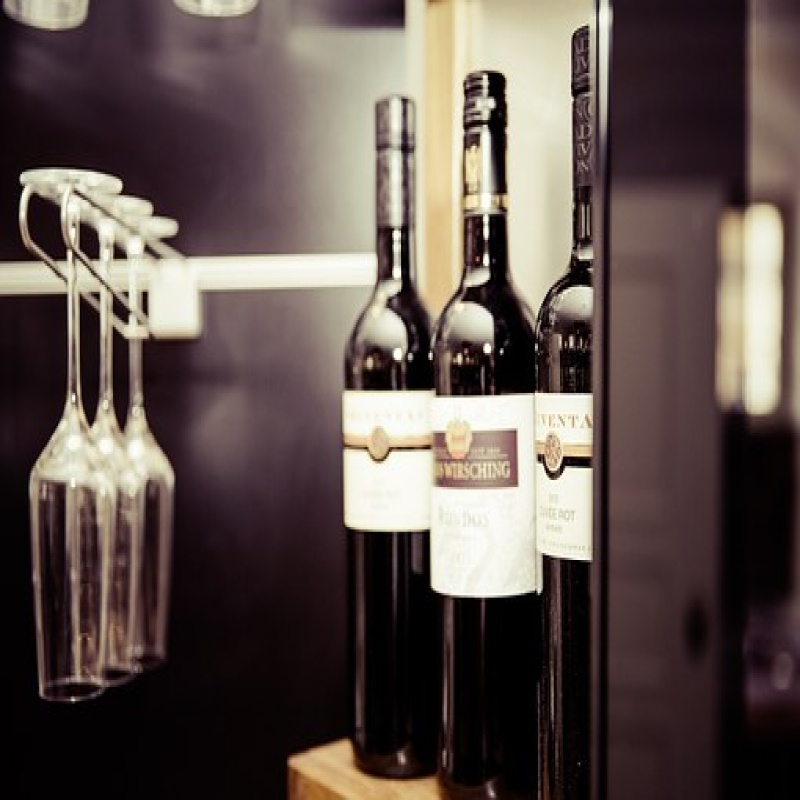wine: (445, 68, 543, 799), (344, 97, 437, 774)
